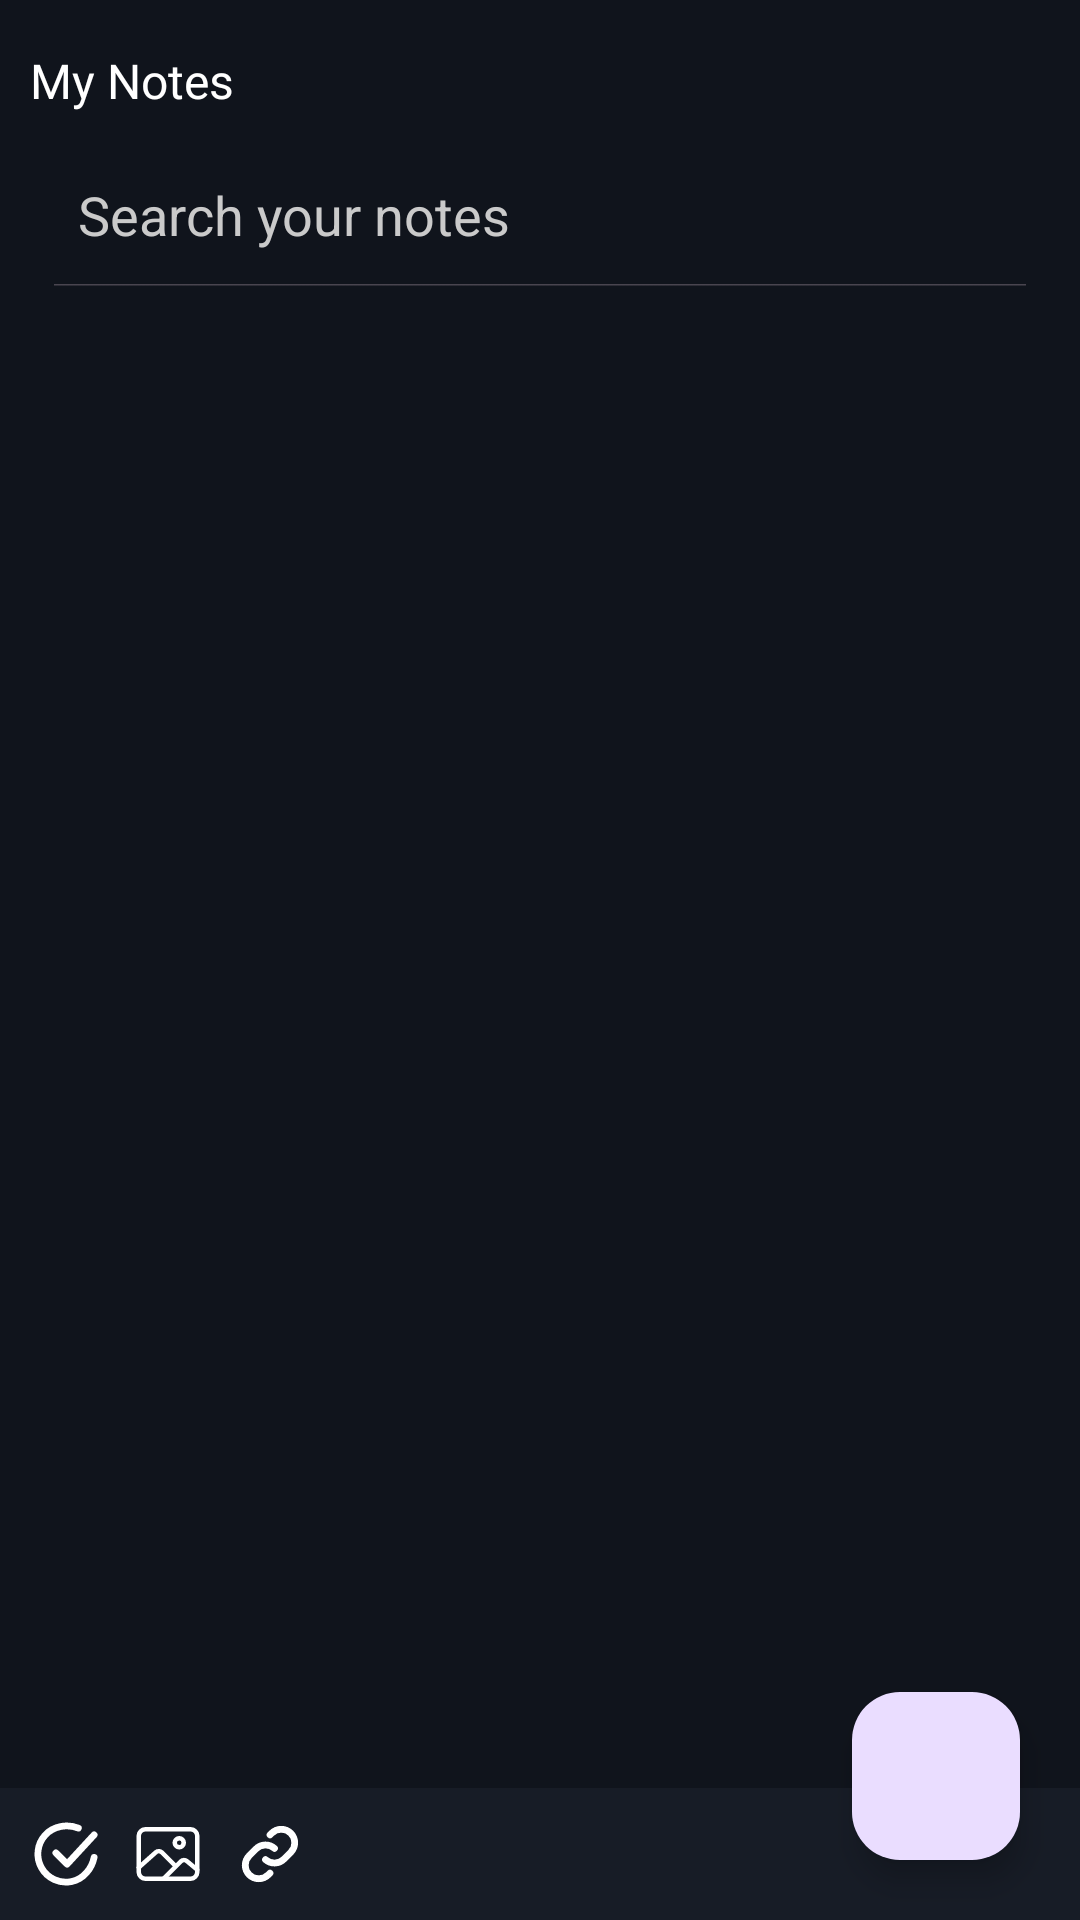

Locate icon controls on the screen. Image size 1080px x 1920px, boxes as (x1,y1,x2,y2).
circle tick: (34,1822,98,1886)
link: (241,1826,298,1882)
